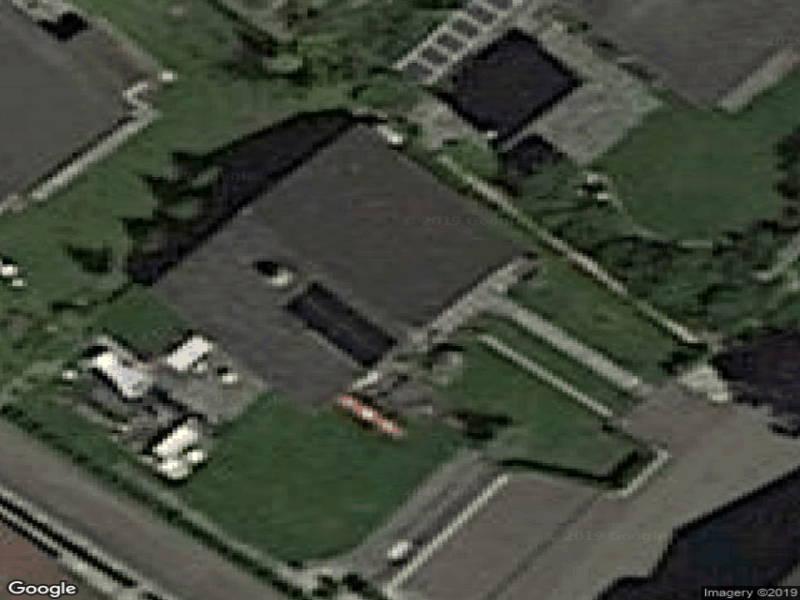pv: (283, 283, 398, 371)
